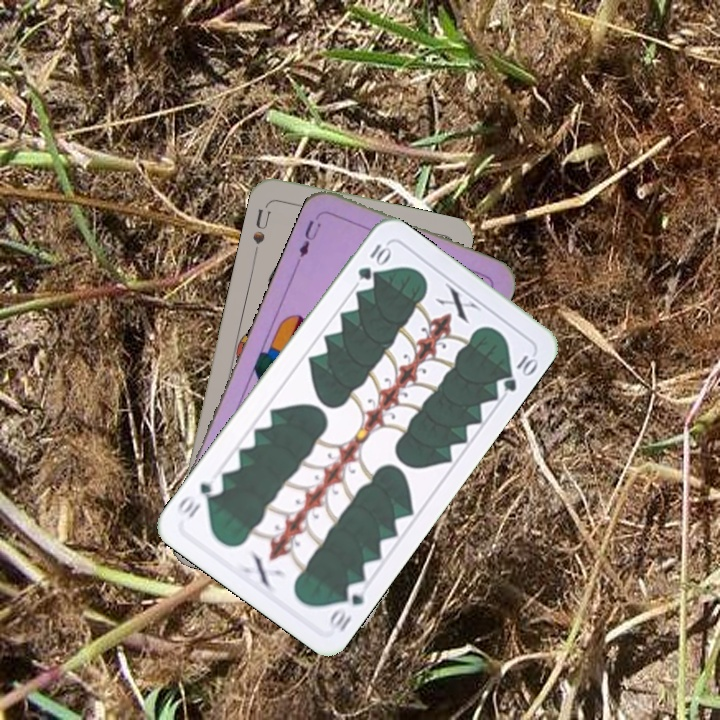EU: (295, 215, 324, 260)
G10: (325, 577, 370, 635), (353, 240, 393, 283)
SU: (249, 199, 274, 258)
